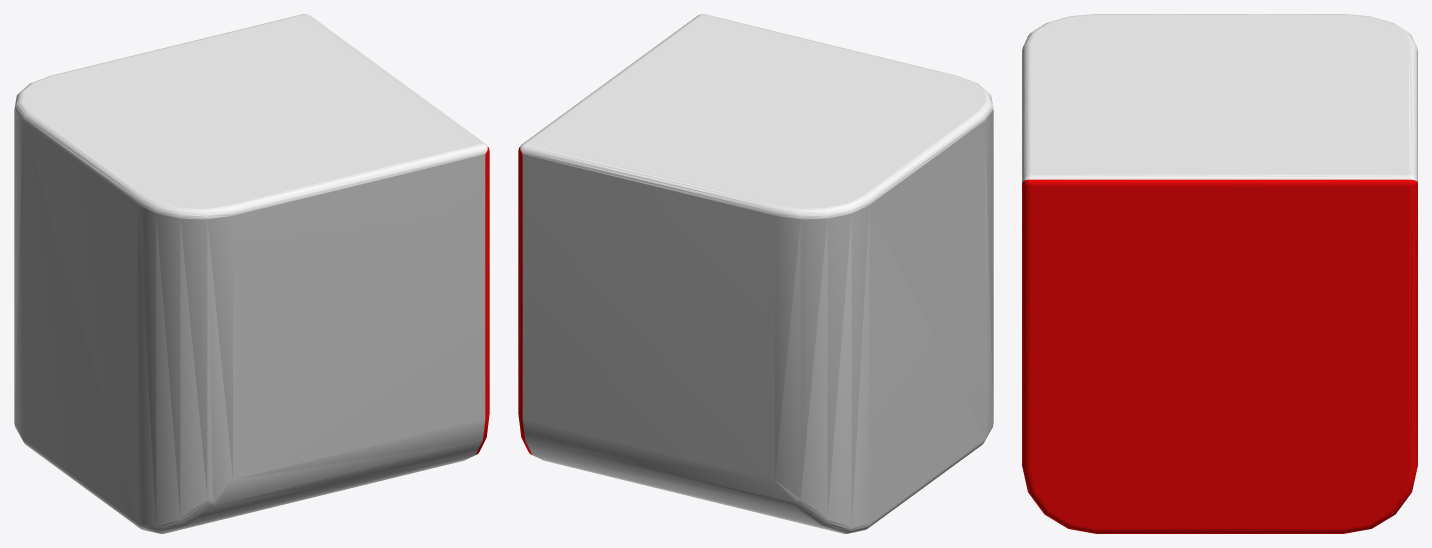
3 views of the same model, side by side, from view 1: azimuth 30°, elevation 25°; view 2: azimuth 150°, elevation 25°; view 3: azimuth 270°, elevation 25° (orthographic). The views are drawn at different scales.
Visible parts, largest first — view 1: edge_UR; view 2: edge_UR; view 3: edge_UR.
Boxes of the visible parts, bbox=[...] form: edge_UR: bbox=[14, 14, 489, 533]; edge_UR: bbox=[518, 14, 993, 533]; edge_UR: bbox=[1022, 14, 1417, 533].
Bounding box in the file's own units: 0.2003 × 0.2003 × 0.2003.
1 material, 1 textured.
